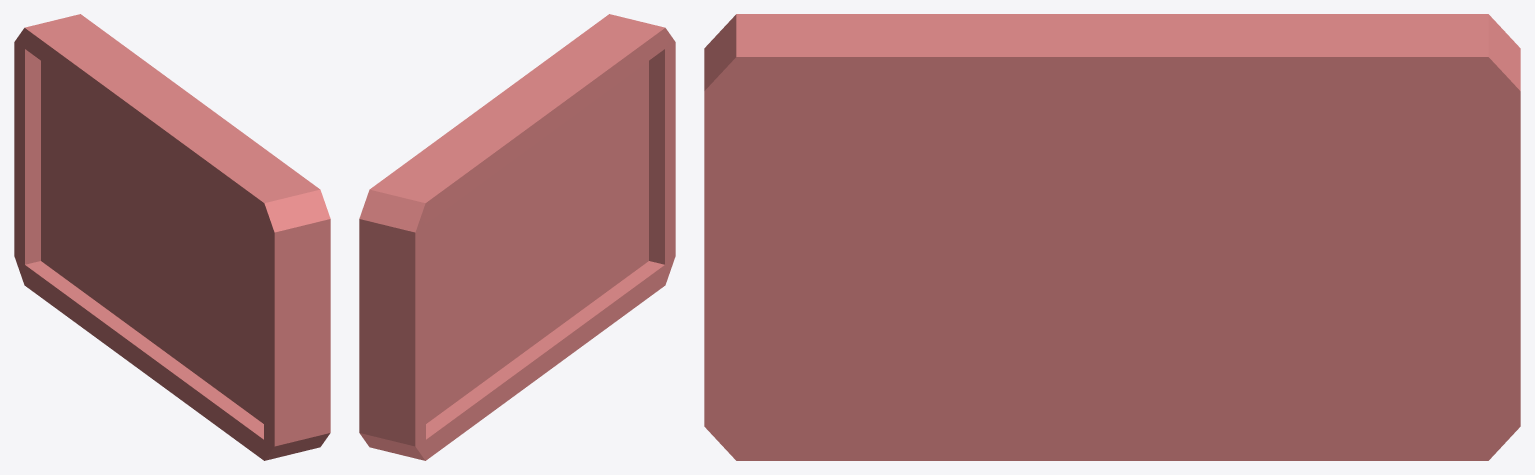
The model's file is Clock.fbx.
The picture shows the model from 3 angles, left to right: view 1: azimuth 30°, elevation 25°; view 2: azimuth 150°, elevation 25°; view 3: azimuth 270°, elevation 25°; orthographic projection. The views are drawn at different scales.
Parts seen in each view (by area): view 1: Clock; view 2: Clock; view 3: Clock.
Boxes of the visible parts, bbox=[...] form: Clock: bbox=[14, 14, 330, 460]; Clock: bbox=[359, 14, 675, 460]; Clock: bbox=[704, 14, 1520, 460].
Bounding box in the file's own units: 6.91 × 30.34 × 55.52.
